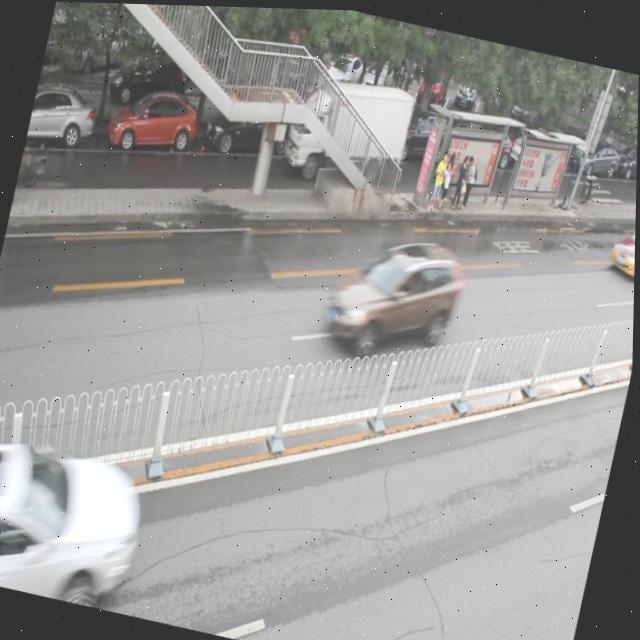bus: (281, 66, 418, 189)
car: (0, 432, 153, 614), (317, 223, 467, 367), (203, 87, 310, 172), (107, 82, 203, 162), (302, 86, 381, 165), (377, 98, 458, 172), (26, 81, 103, 155), (607, 204, 637, 283)
